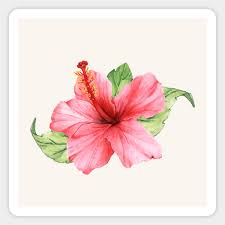hybiscus: (53, 57, 166, 177)
